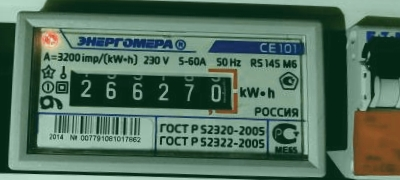0: (209, 82, 223, 103)
2: (78, 78, 94, 99), (156, 81, 171, 102)
6: (104, 79, 118, 100), (131, 81, 145, 102)
7: (182, 82, 195, 102)
screen: (59, 59, 245, 119)
